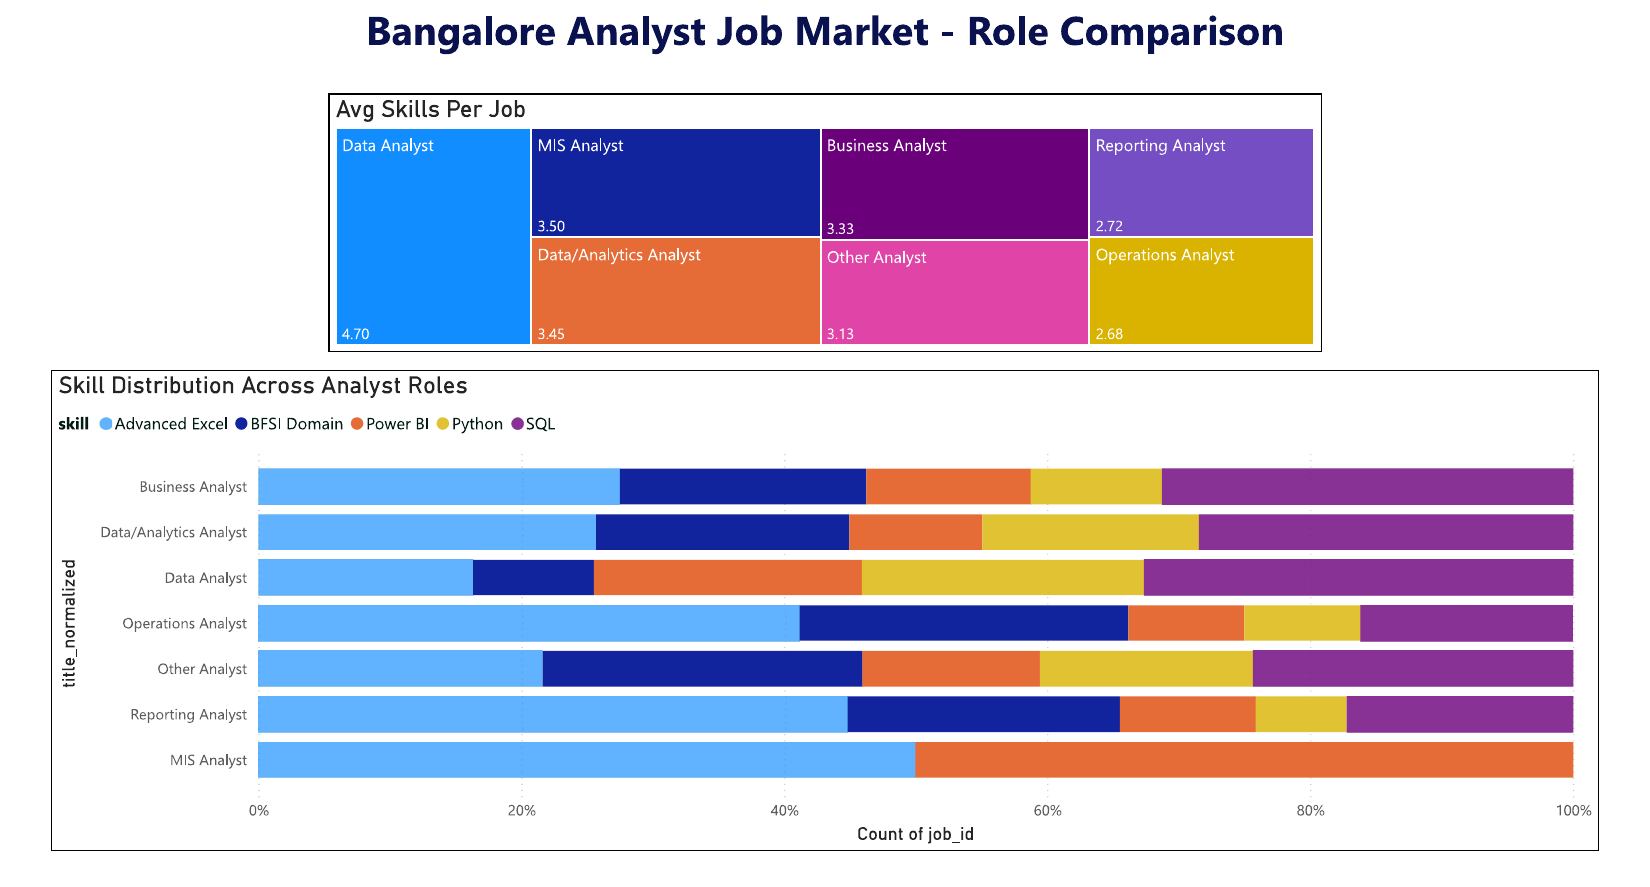

The dashboard page shown, as its layout file describes it:
{"tool":"powerbi","page":{"name":"Role_Comparison","canvas":[1280,720],"ordinal":2},"visuals":[{"type":"textbox","box":[29.3,31.8,1220.4,58.7],"z":0},{"type":"hundredPercentStackedBarChart","title":"Skill Distribution Across Analyst Roles","fields":{"Category":["jobs.title_normalized"],"Y":["Count(job_skills.job_id)"],"Series":["job_skills.skill"]},"box":[17.1,332.6,1244.8,387.6],"z":1000},{"type":"treemap","title":"Avg Skills Per Job","fields":{"Group":["jobs.title_normalized"],"Values":["job_skills.Avg Skills Per Job"]},"box":[239.7,111.3,799.7,207.9],"z":2000}]}

Visuals, with their boxes on the page's 1280x720 design canvas (x1, y1, x2, y2). These are canvas units, not pixel positions in the 1650x887 screenshot, which may show the page scaled, cropped or inside an application window:
textbox: bbox=[29, 32, 1250, 90]
"Skill Distribution Across Analyst Roles" hundredPercentStackedBarChart: bbox=[17, 333, 1262, 720]
"Avg Skills Per Job" treemap: bbox=[240, 111, 1039, 319]
